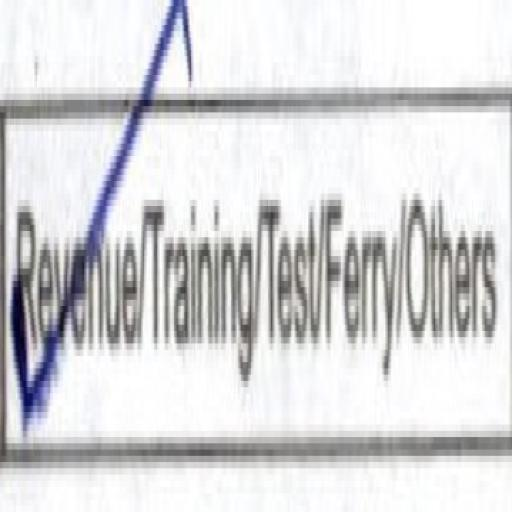check: (0, 56, 143, 512)
